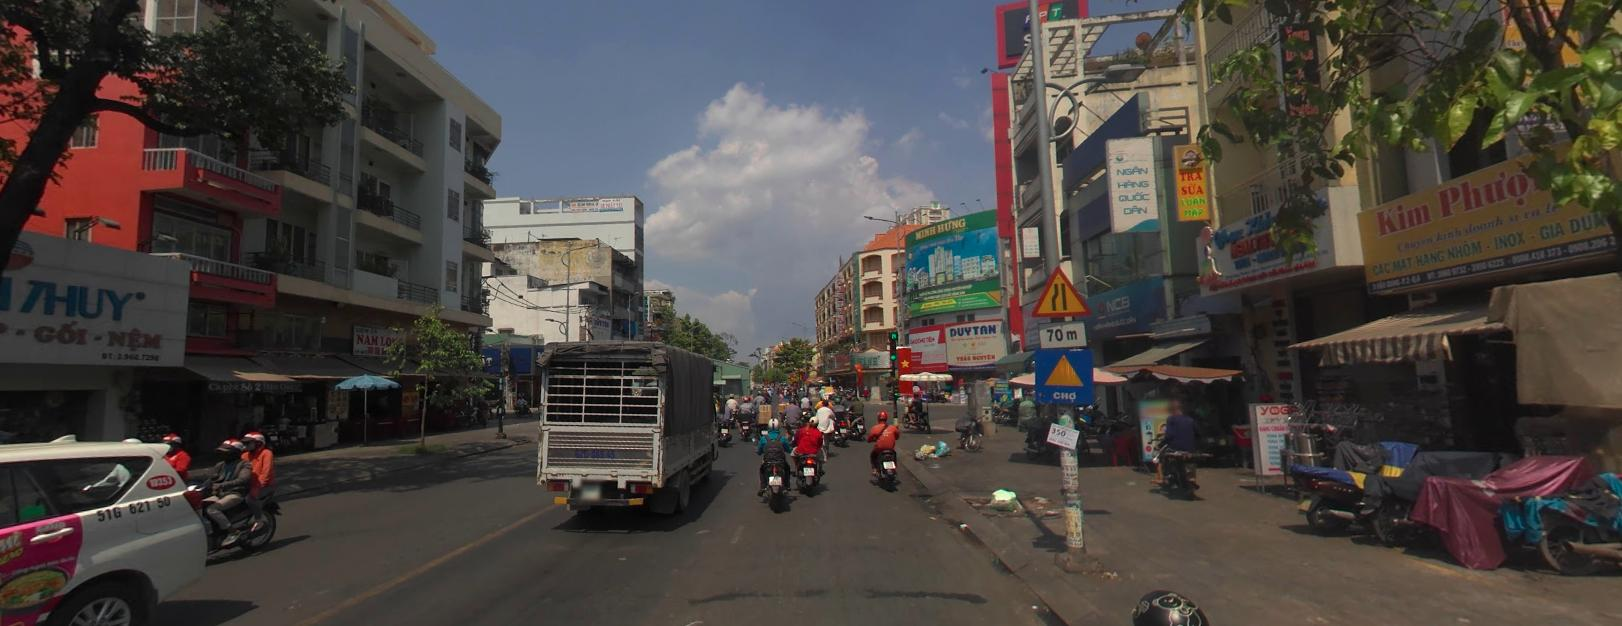Cam dung va do: (801, 372, 809, 379)
Nguy hiem: (1030, 264, 1092, 315), (1042, 350, 1085, 385)
